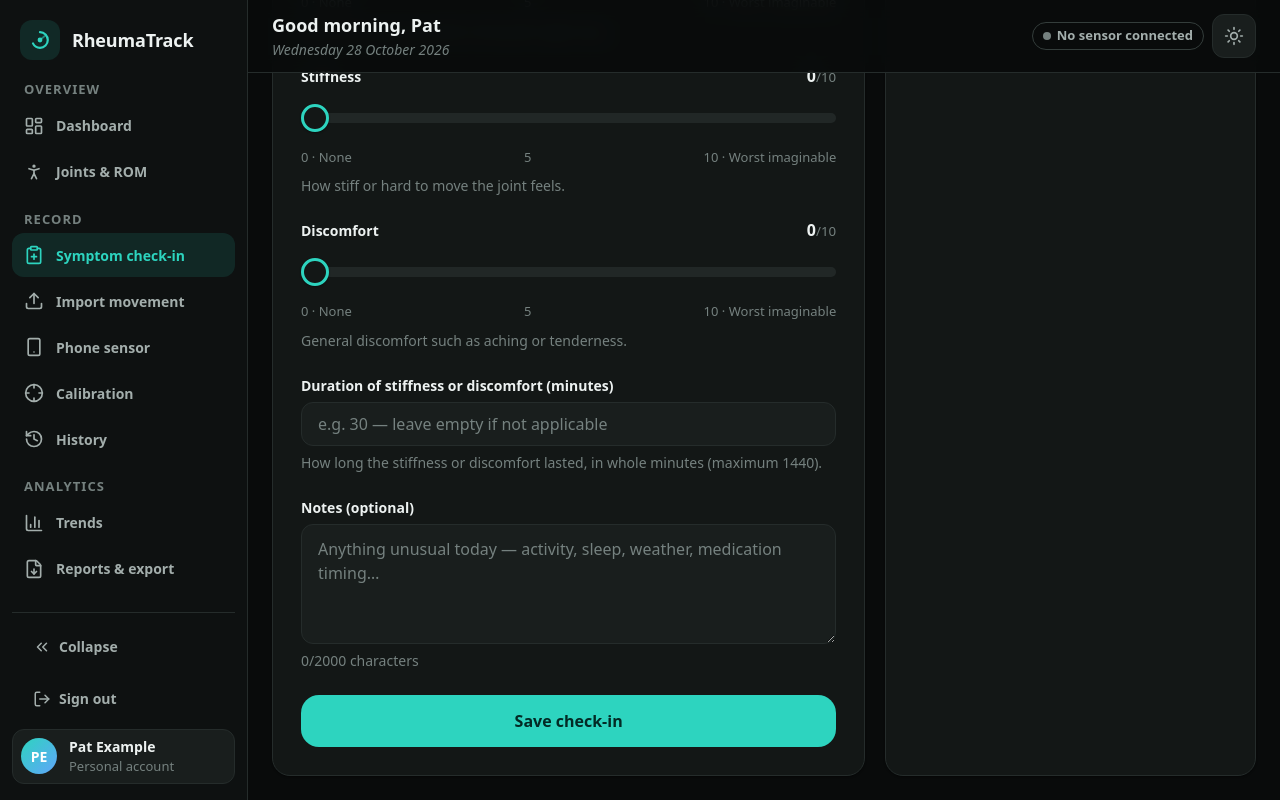
symptom assessment › validates input and saves a new timestamped record without overwriting earlier ones
(page scrolled)
Step 1. Type "abc" into the field labelled "Duration of stiffness or discomfort (minutes)" → (569, 424), box [301,402,836,446]
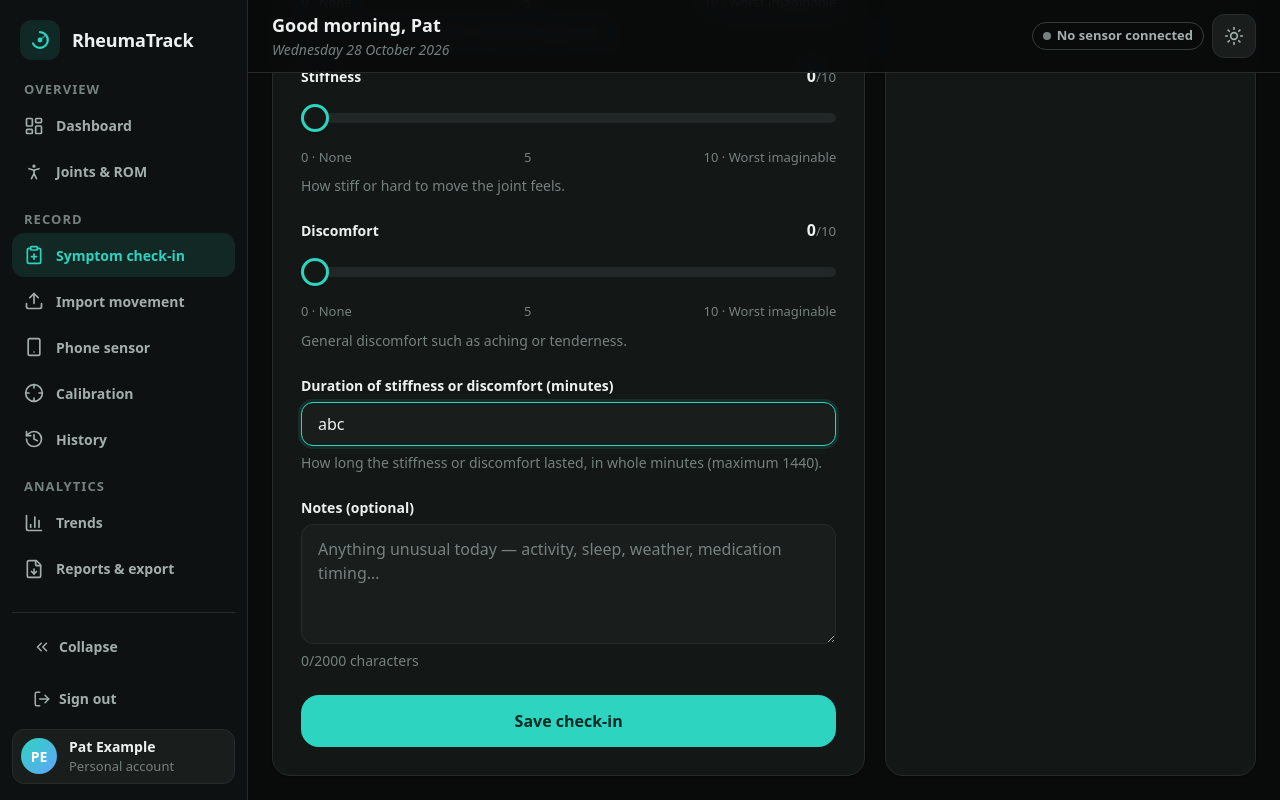
Step 2. Click the button "Save check-in" → (569, 720), box [301,694,836,746]
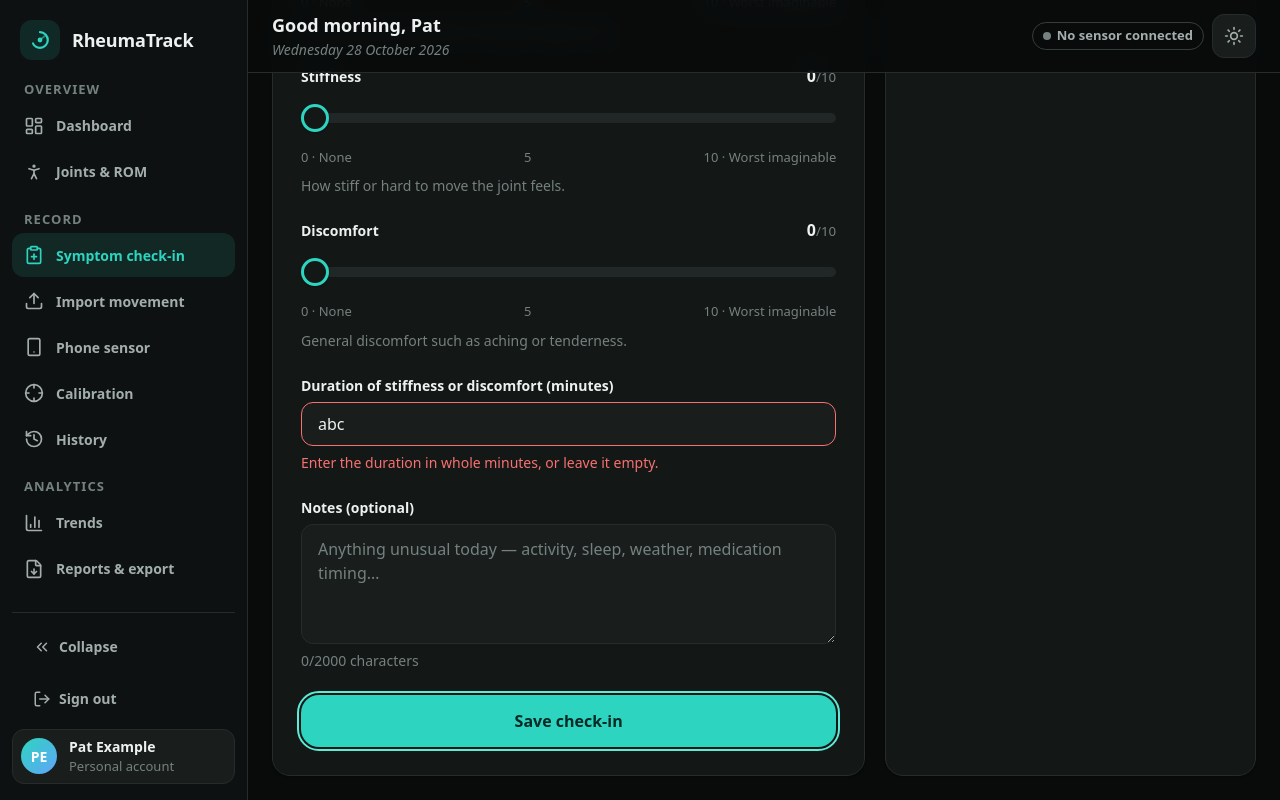
Now the text "Enter the duration in whole minutes, or leave it empty." is shown, box [301,452,658,472]
Step 3. Replace the text in the field labelled "Duration of stiffness or discomfort (minutes)" with "45" → (569, 424), box [301,402,836,446]
(page scrolled)
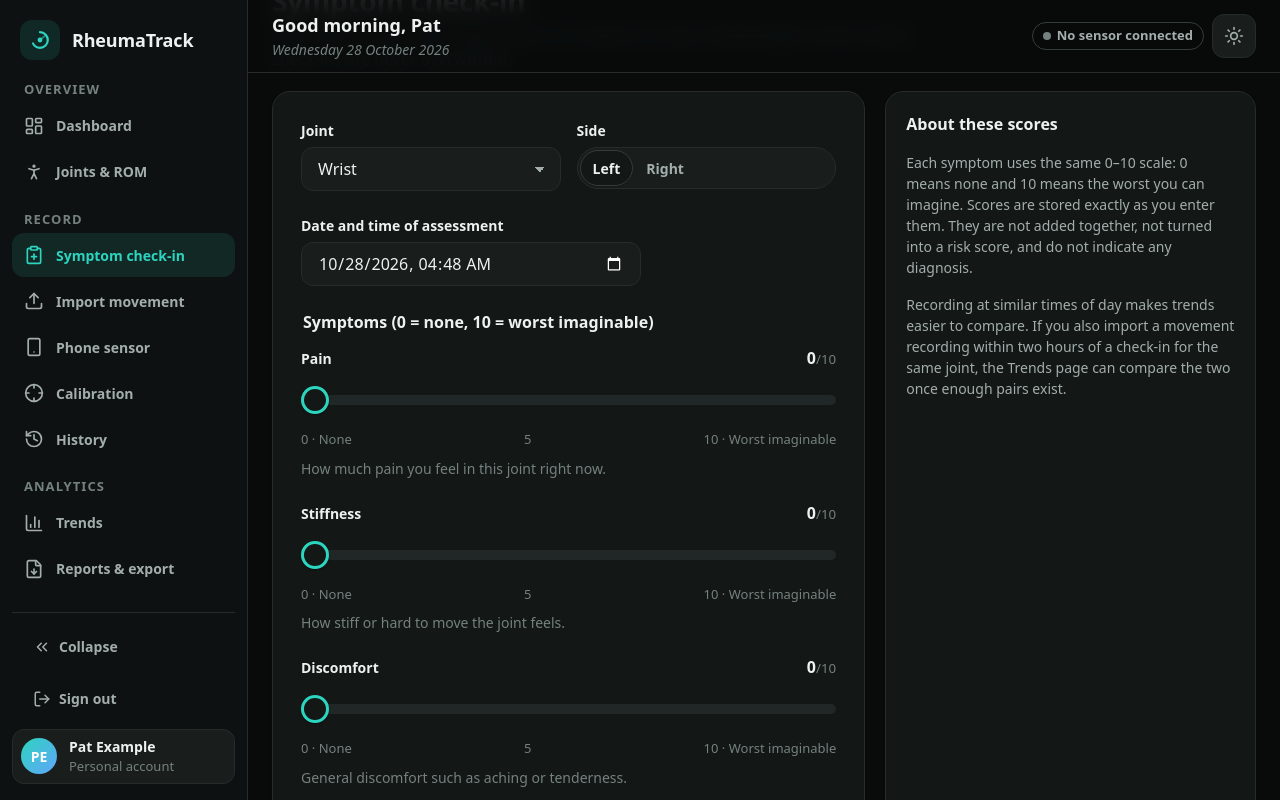
Step 4. Set the slider labelled "Pain" to "6" → (621, 400), box [301,378,836,422]
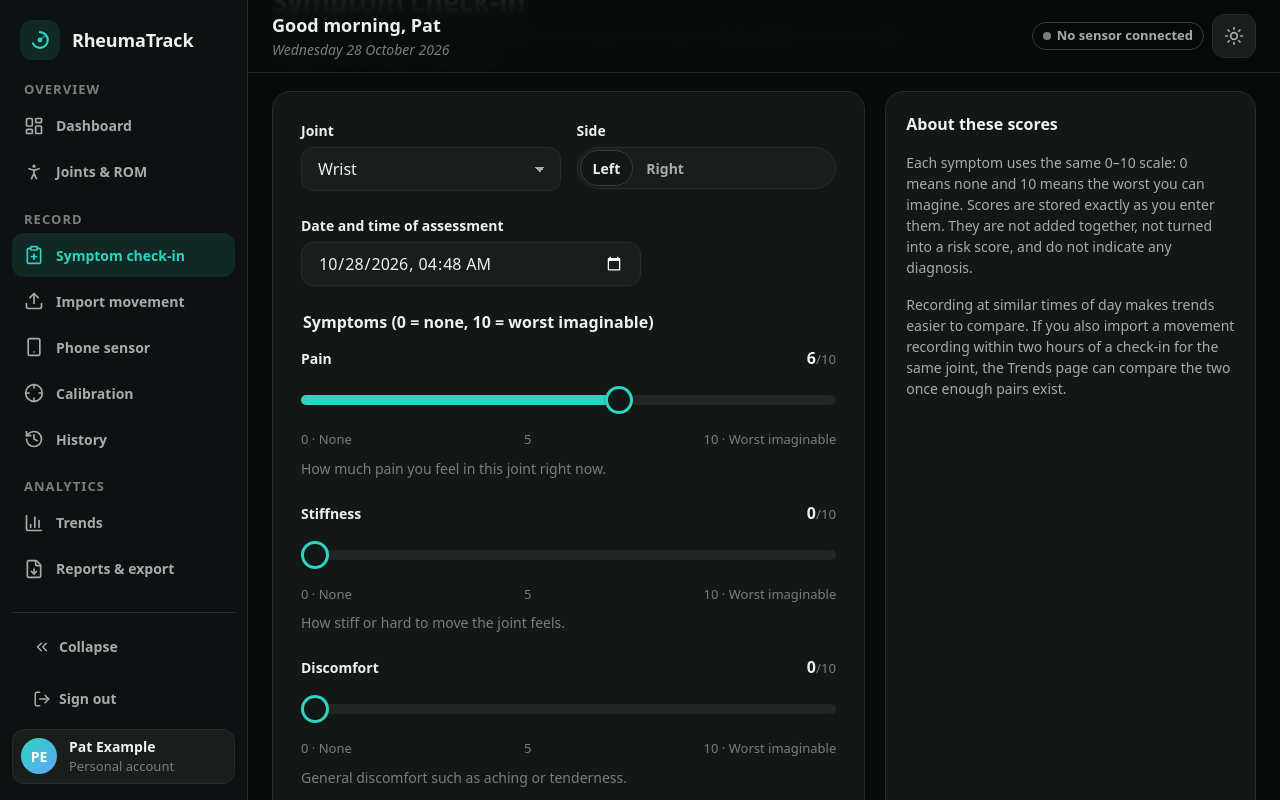
Step 5. Set the slider labelled "Stiffness" to "7" → (672, 554), box [301,532,836,576]
(page scrolled)
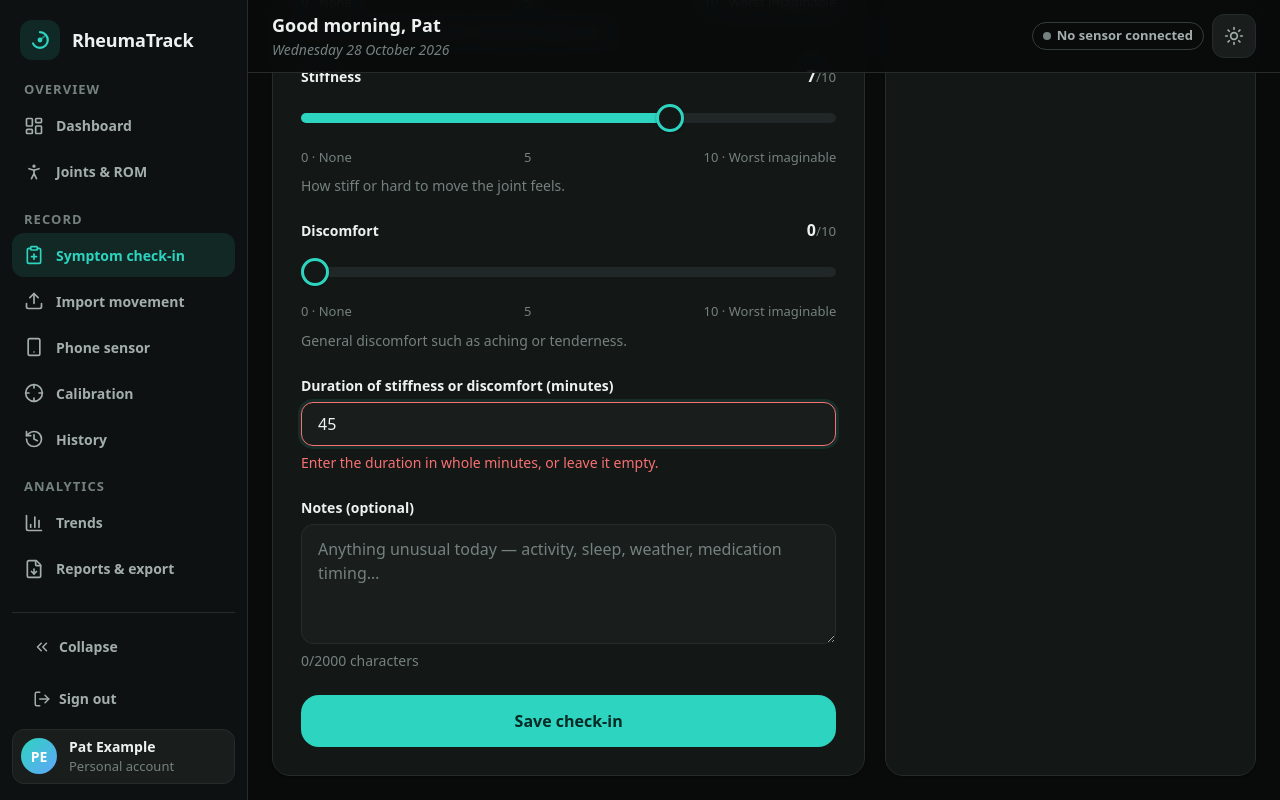
Step 6. Click the button "Save check-in" → (569, 720), box [301,694,836,746]
(page scrolled)
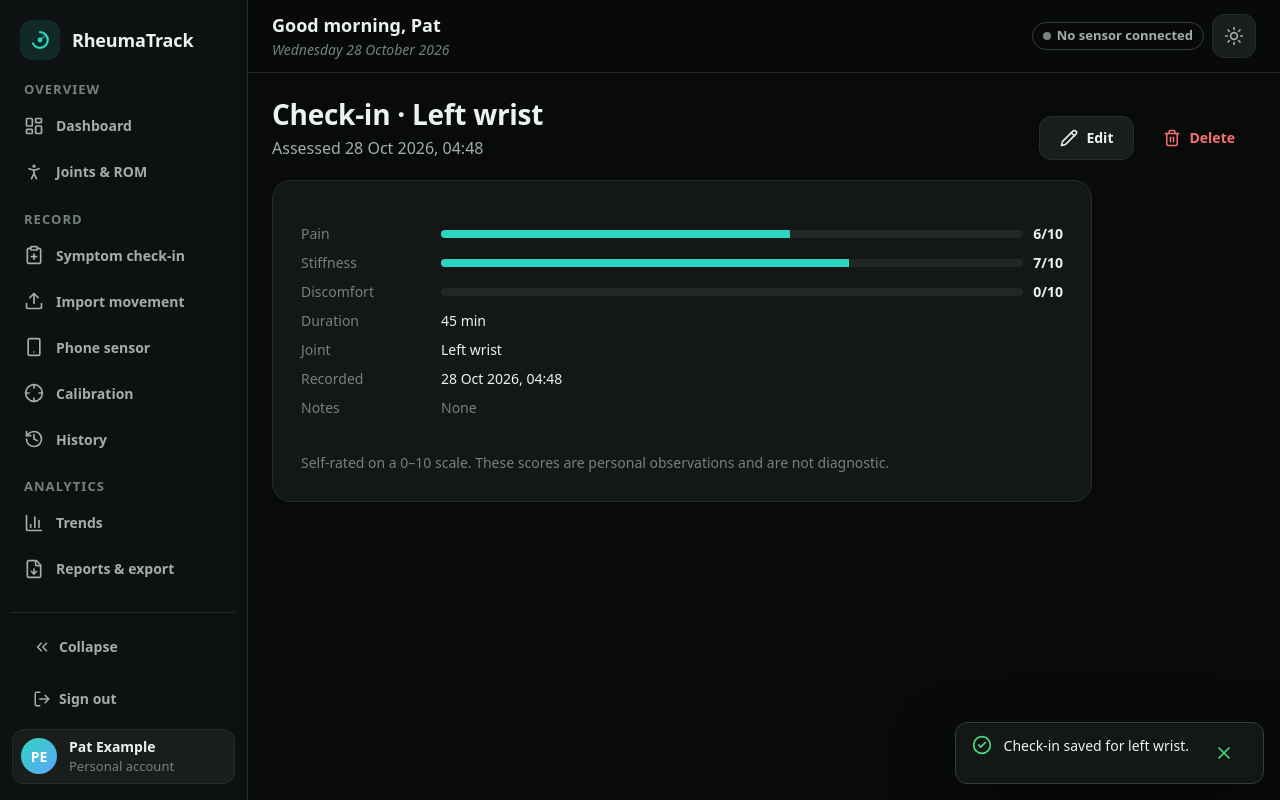
Now the heading "Check-in · Left wrist" is shown, box [272,97,543,132]
